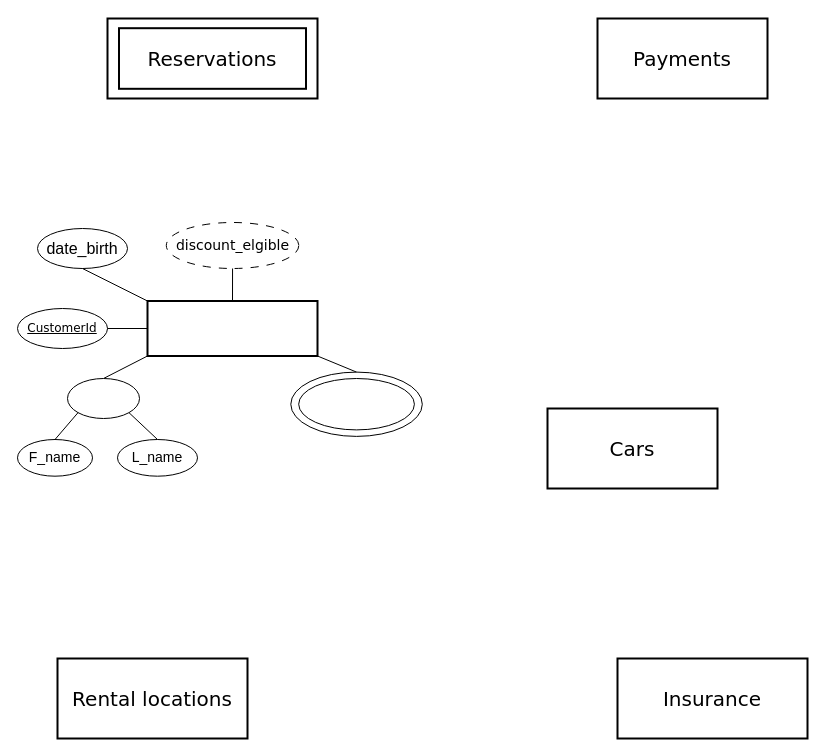
The diagram is 826 pixels wide and 756 high, and some of its shapes have lost their labels. Each missing label, with the centre of its shape:
Customers: point (232, 328)
Name: point (103, 398)
Phone_num: point (356, 404)
